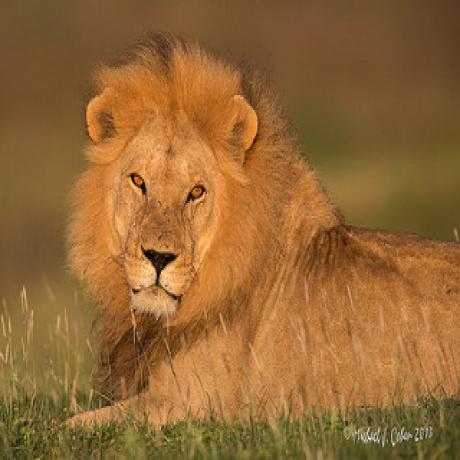Lion: (68, 37, 460, 428)
